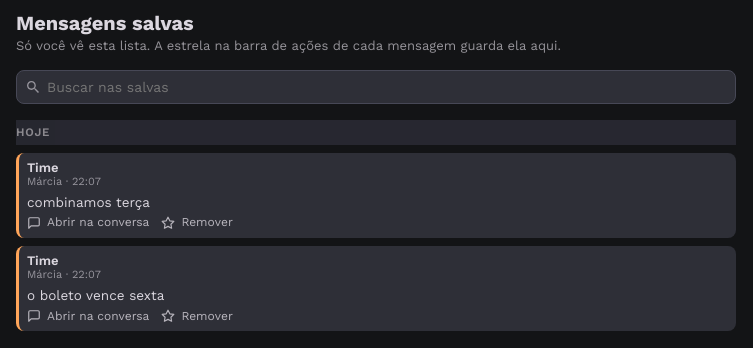
Test case: Saved · busca, filtro e agrupamento › a busca alcança o texto da mensagem
This screenshot has width=753, height=348.
Type "boleto" into the field named "Buscar nas mensagens salvas" at (387, 87), box 47,71 -> 727,103
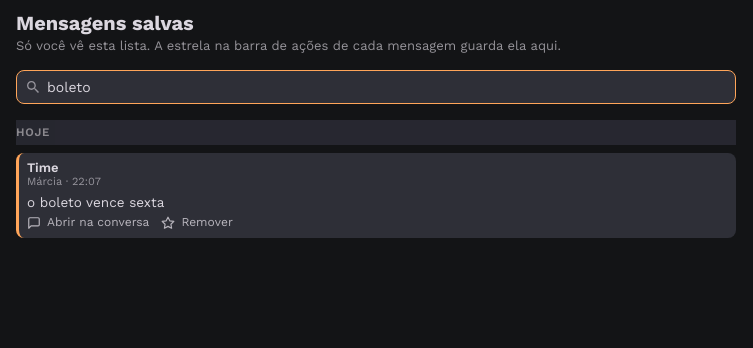
Check: the text "o boleto vence sexta" is shown, box 27,194 -> 164,210
Check: the text "combinamos terça" is gone
